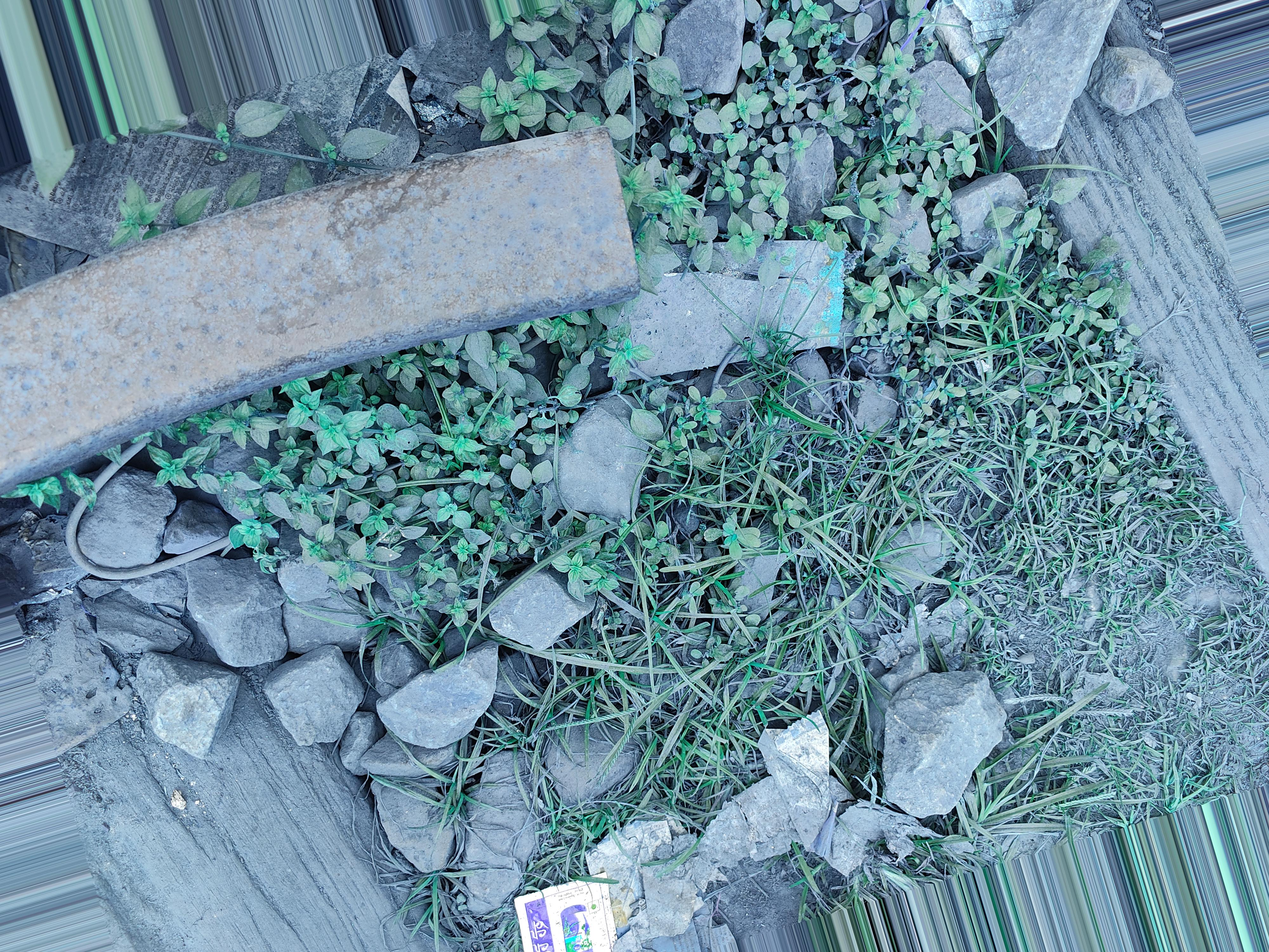tracks_fault: (500, 45, 1181, 330)
